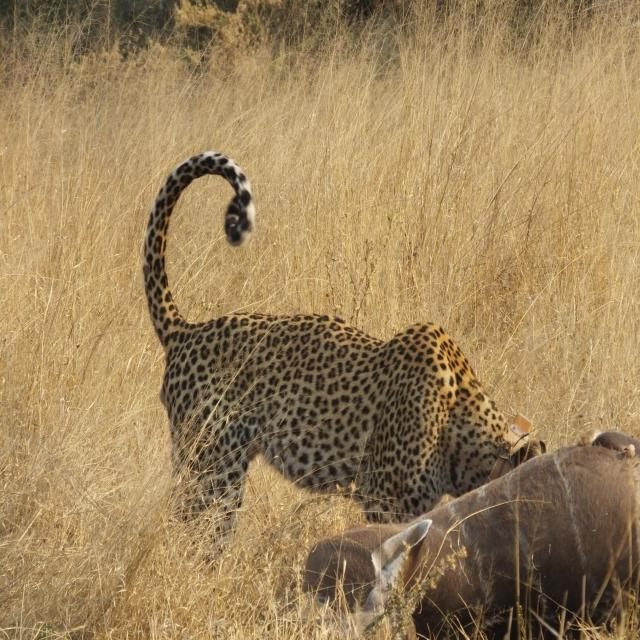Leopard: (153, 134, 555, 558)
